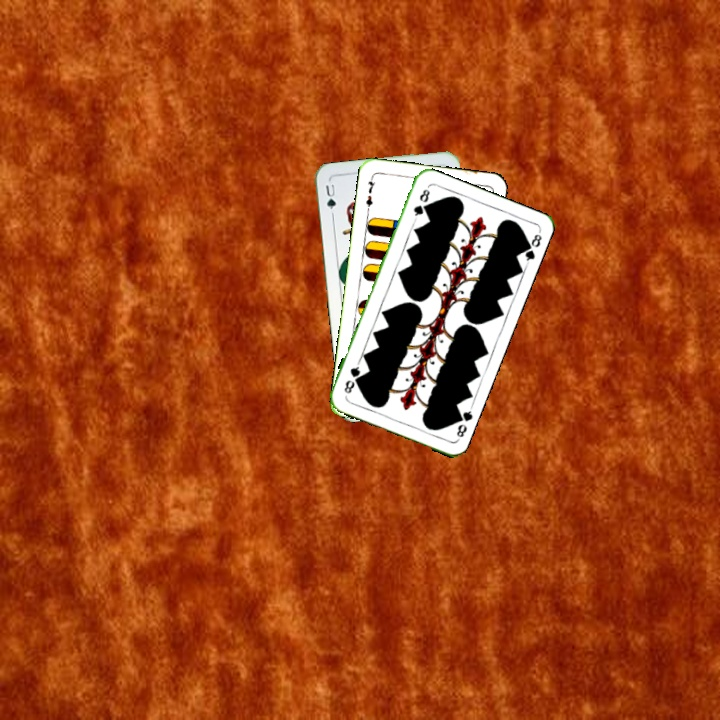E7: (362, 173, 378, 214)
G8: (451, 403, 475, 440), (409, 185, 432, 222)
GU: (321, 180, 339, 212)
